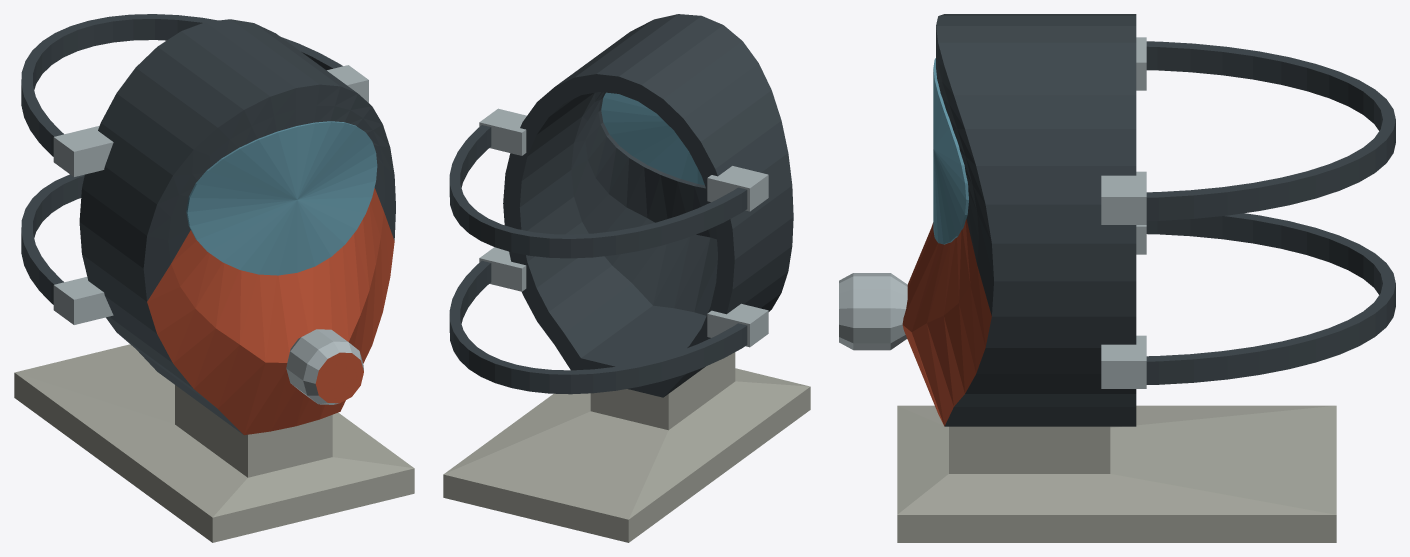
3 views of the same model, side by side, from view 1: azimuth 30°, elevation 25°; view 2: azimuth 150°, elevation 25°; view 3: azimuth 270°, elevation 25° (orthographic). The views are drawn at different scales.
Visible parts, largest first — view 1: Facepiece_ThickOpenBackShell, Display_LowFiniteSeatPlinth, Facepiece_CurvedOpaqueWindow, Facepiece_OpenUHeadband_Upper, Facepiece_SolidShortConnector, Facepiece_OpenUHeadband_Lower, Facepiece_UpperEar_Left, Facepiece_LowerEar_Left, Facepiece_UpperEar_Right; view 2: Facepiece_ThickOpenBackShell, Display_LowFiniteSeatPlinth, Facepiece_OpenUHeadband_Upper, Facepiece_OpenUHeadband_Lower, Facepiece_CurvedOpaqueWindow, Facepiece_UpperEar_Left, Facepiece_LowerEar_Left, Facepiece_UpperEar_Right, Facepiece_LowerEar_Right; view 3: Facepiece_ThickOpenBackShell, Display_LowFiniteSeatPlinth, Facepiece_OpenUHeadband_Upper, Facepiece_OpenUHeadband_Lower, Facepiece_SolidShortConnector, Facepiece_CurvedOpaqueWindow, Facepiece_UpperEar_Right, Facepiece_LowerEar_Right.
Boxes of the visible parts, x1,y1,x2,y2 form: Facepiece_ThickOpenBackShell: [79, 19, 395, 435]; Display_LowFiniteSeatPlinth: [14, 344, 414, 542]; Facepiece_CurvedOpaqueWindow: [186, 121, 377, 275]; Facepiece_OpenUHeadband_Upper: [21, 14, 342, 156]; Facepiece_SolidShortConnector: [286, 329, 363, 404]; Facepiece_OpenUHeadband_Lower: [21, 174, 84, 304]; Facepiece_UpperEar_Left: [53, 126, 113, 176]; Facepiece_LowerEar_Left: [53, 277, 113, 324]; Facepiece_UpperEar_Right: [327, 65, 368, 102]; Facepiece_ThickOpenBackShell: [503, 14, 793, 397]; Display_LowFiniteSeatPlinth: [443, 352, 810, 542]; Facepiece_OpenUHeadband_Upper: [449, 125, 747, 258]; Facepiece_OpenUHeadband_Lower: [449, 260, 747, 394]; Facepiece_CurvedOpaqueWindow: [601, 92, 704, 185]; Facepiece_UpperEar_Left: [707, 166, 768, 211]; Facepiece_LowerEar_Left: [707, 303, 768, 347]; Facepiece_UpperEar_Right: [479, 108, 526, 155]; Facepiece_LowerEar_Right: [479, 247, 526, 291]; Facepiece_ThickOpenBackShell: [902, 14, 1136, 426]; Display_LowFiniteSeatPlinth: [897, 405, 1336, 542]; Facepiece_OpenUHeadband_Upper: [1146, 41, 1395, 220]; Facepiece_OpenUHeadband_Lower: [1146, 213, 1395, 384]; Facepiece_SolidShortConnector: [839, 273, 907, 350]; Facepiece_CurvedOpaqueWindow: [933, 58, 968, 244]; Facepiece_UpperEar_Right: [1101, 171, 1146, 224]; Facepiece_LowerEar_Right: [1101, 335, 1146, 388].
Bounding box in the file's own units: 0.292 × 0.395 × 0.431.
